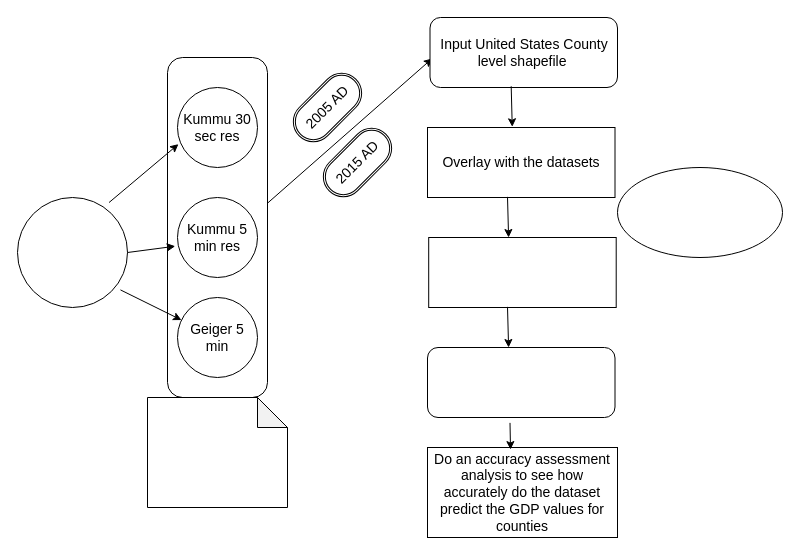
Some shapes in this 800 by 555 pixel diagram are drawn without their labels. Each missing label, with the centre of its shape:
"3 of existing 6 major GDP datasets - with the highest resolution" belongs at point 217,452.
"Compare the extracted data with reported US BEA county level GDP data" belongs at point 520,382.
"Extract values of GDP from the datasets using the county level shapefile" belongs at point 522,272.
"Gridded GDP Datasets" belongs at point 72,252.
